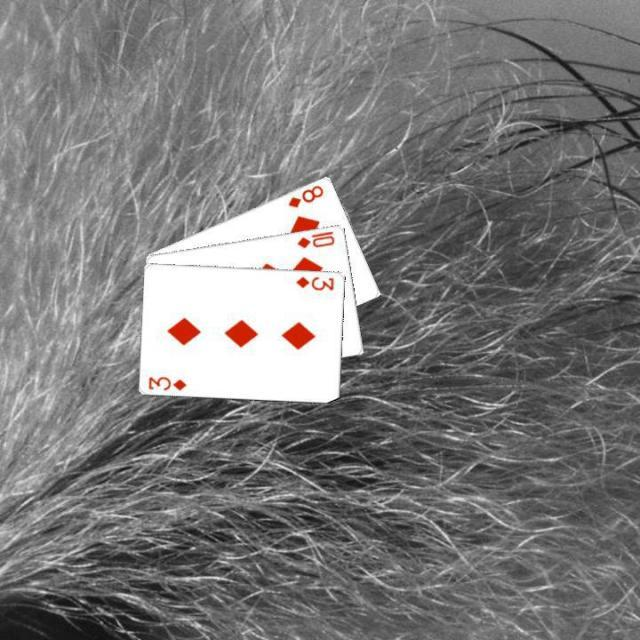10D: (293, 227, 337, 250)
3D: (292, 272, 336, 292), (144, 372, 188, 392)
8D: (284, 181, 326, 209)
